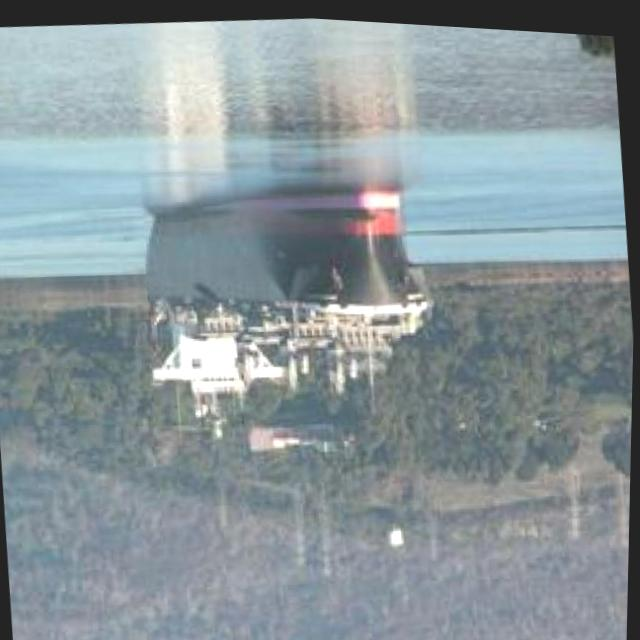ship2: (147, 183, 430, 434)
